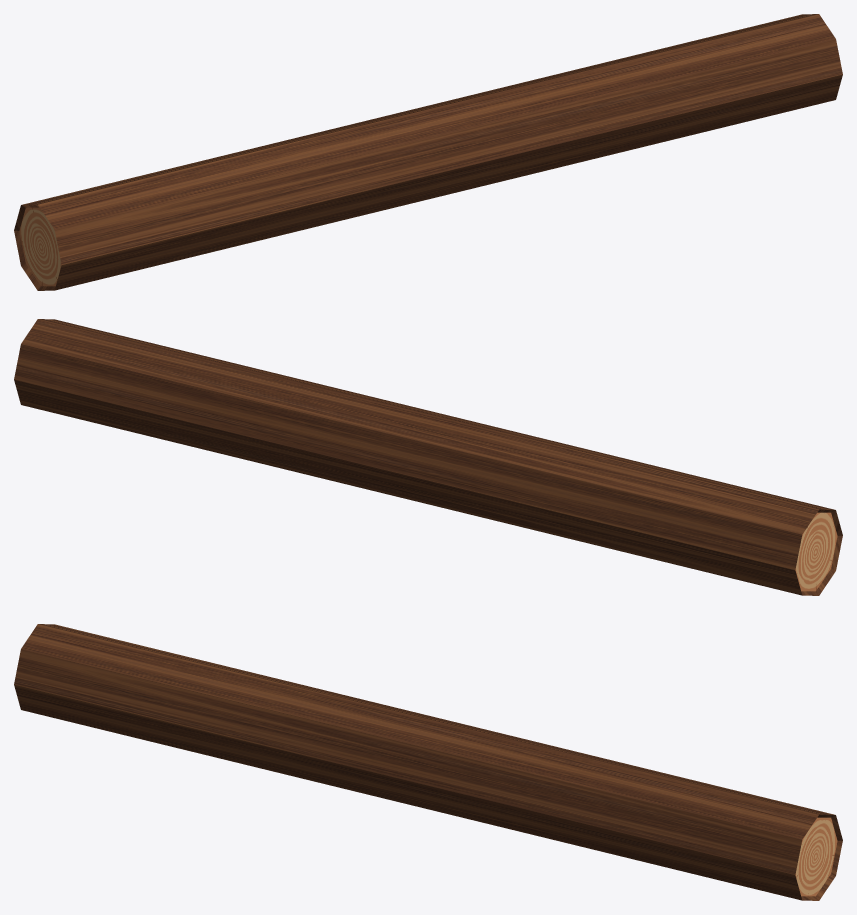
File: Log.fbx
3 views of the same model, one above another, from view 1: azimuth 30°, elevation 25°; view 2: azimuth 150°, elevation 25°; view 3: azimuth 330°, elevation 25° (orthographic).
Parts seen in each view (by area): view 1: Log; view 2: Log; view 3: Log.
Part boxes in pixels (x1,y1,x2,y2): Log: (14, 14, 842, 290); Log: (14, 319, 842, 595); Log: (14, 624, 842, 900).
Bounding box in the file's own units: 114 × 12.02 × 12.02.
